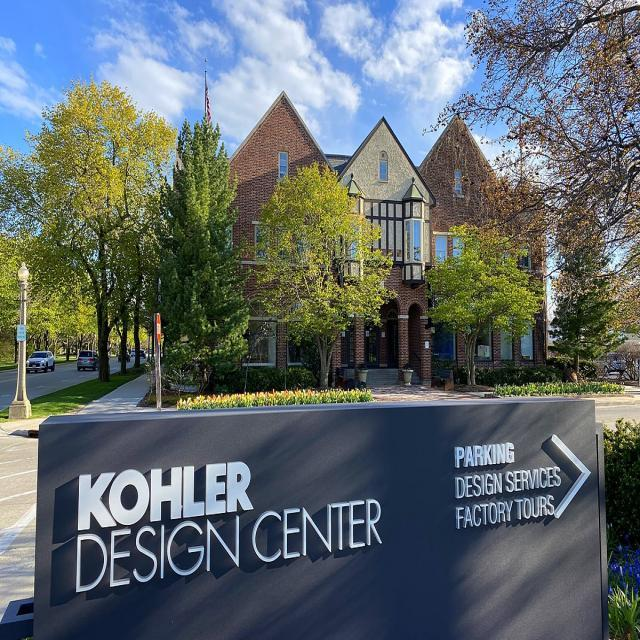Kohler: (77, 460, 255, 530)
